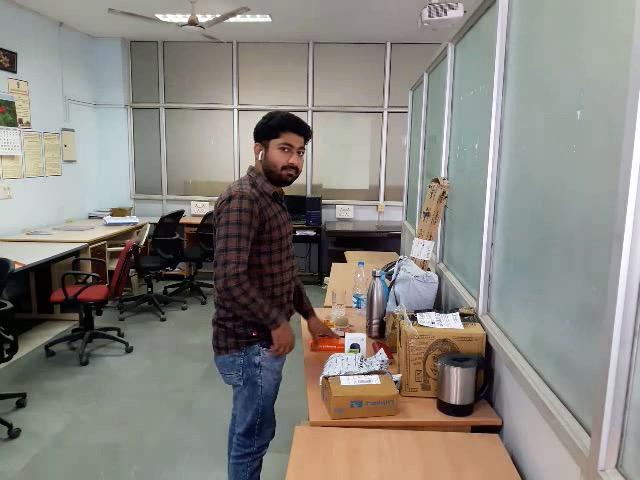Normal: (0, 19, 532, 474)
shoplifting: (180, 283, 362, 406)
